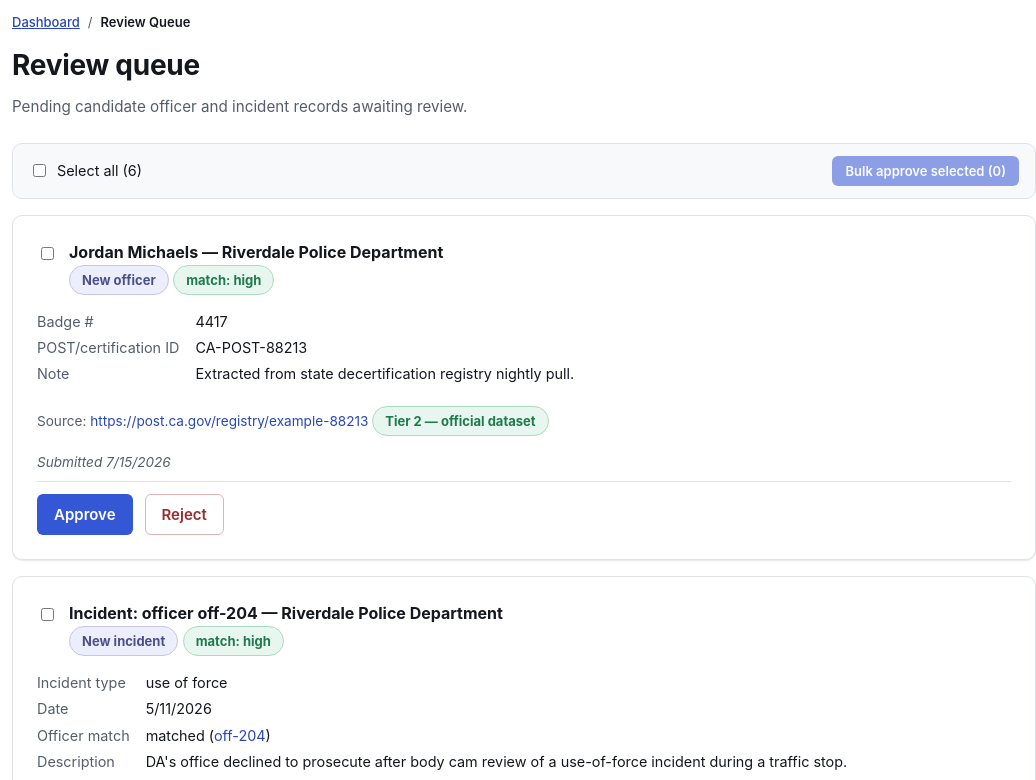
Test: ReviewQueuePage › removes an item from the list after a successful approve
expect the element with test id "review-item-rq-1" is shown: met, box [12,215,1035,560]
Click the button "Approve".
click(85, 515)  # box [37,494,132,535]
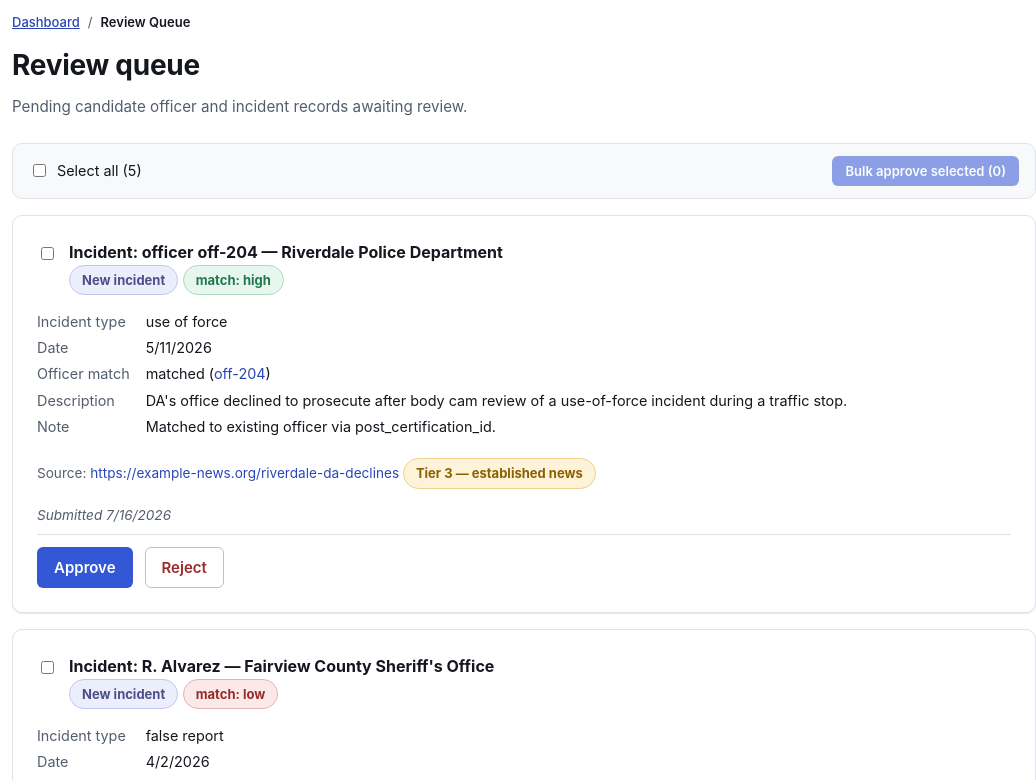
expect the element with test id "review-item-rq-1" is gone: met
